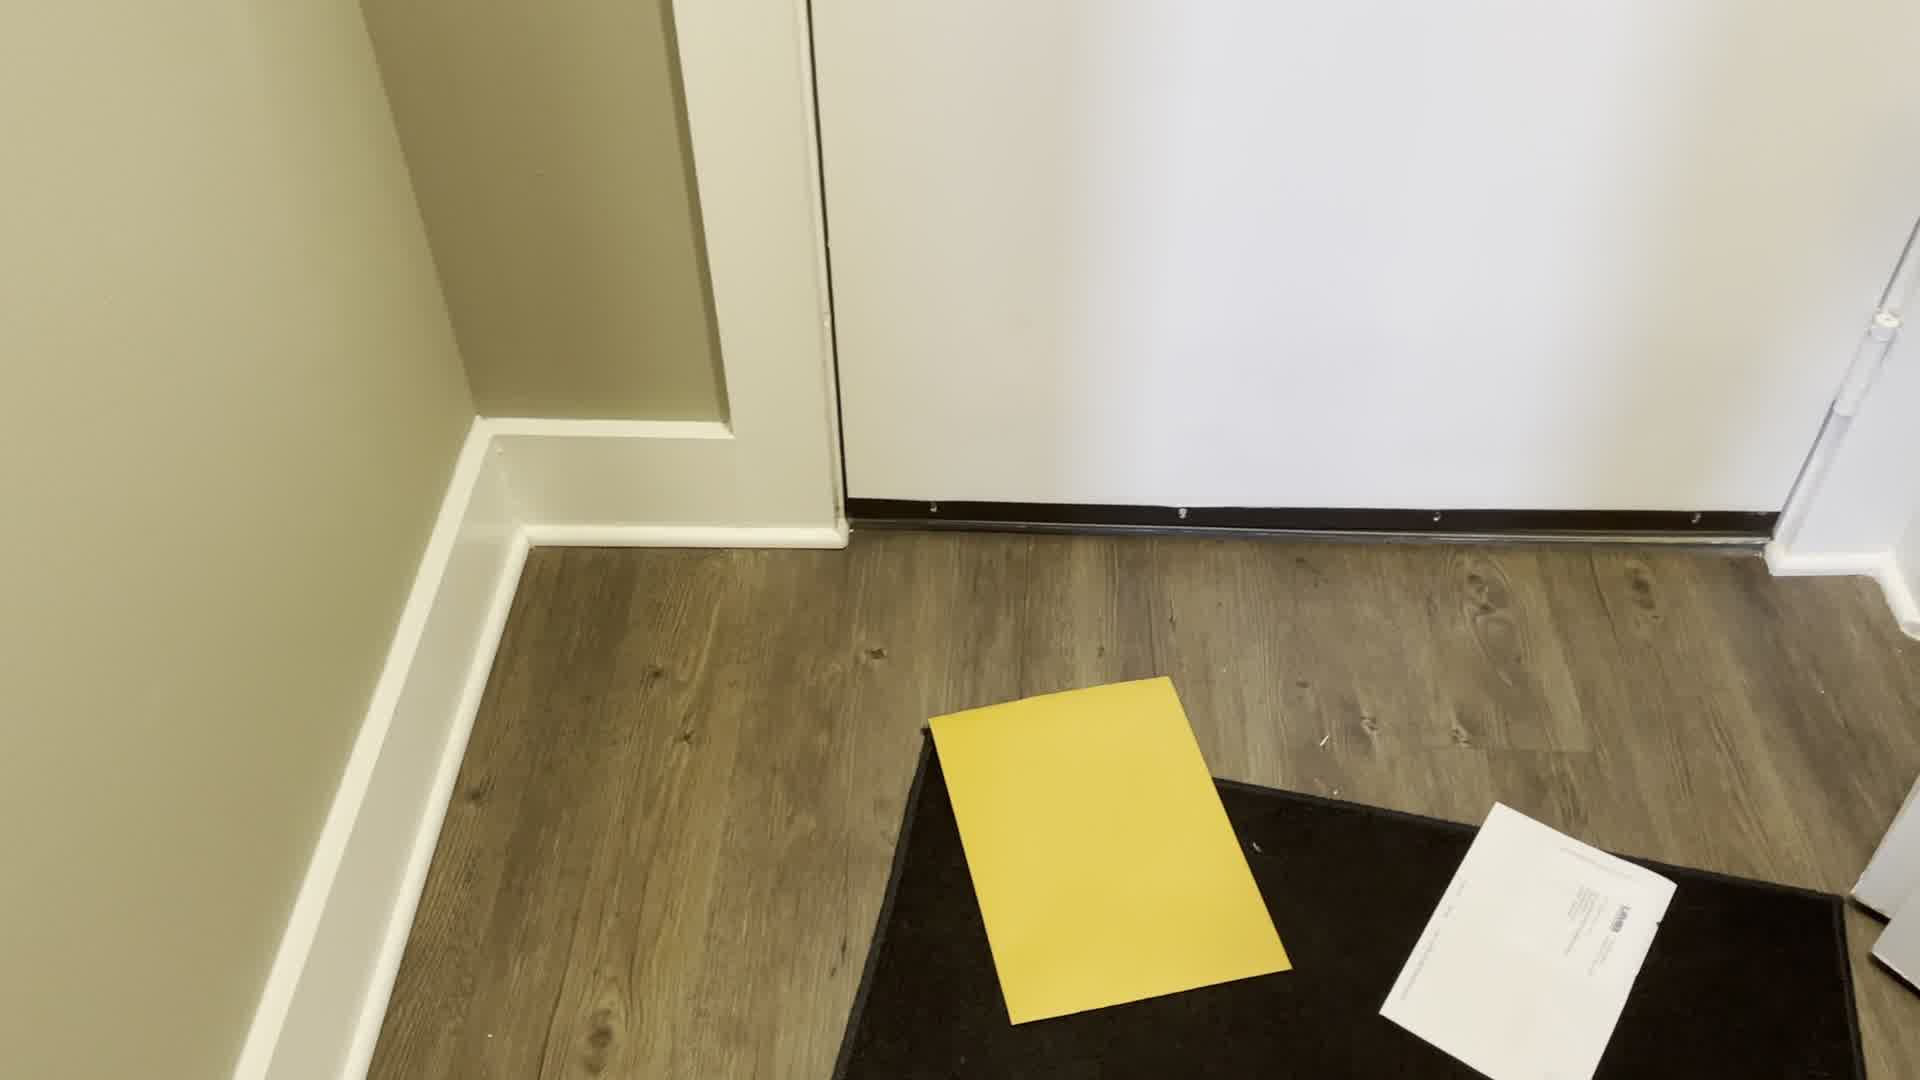envelope: (909, 666, 1290, 1027), (1378, 796, 1687, 1080)
